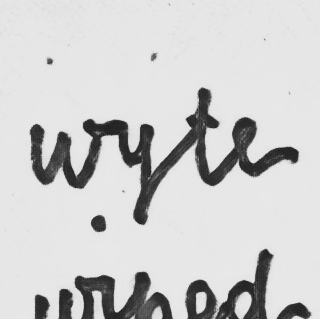e: (229, 113, 291, 179)
t: (181, 83, 224, 190)
w: (25, 115, 105, 192)
y: (113, 116, 158, 228)
